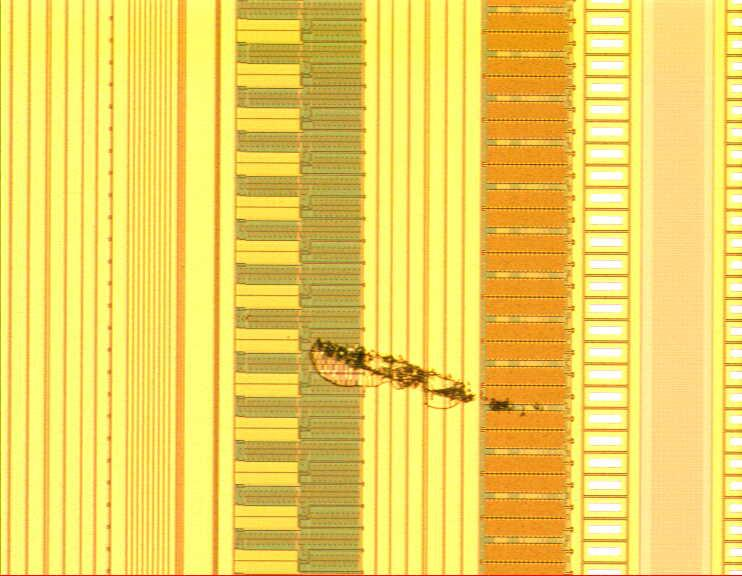SCRATCH: (235, 307, 551, 419)
